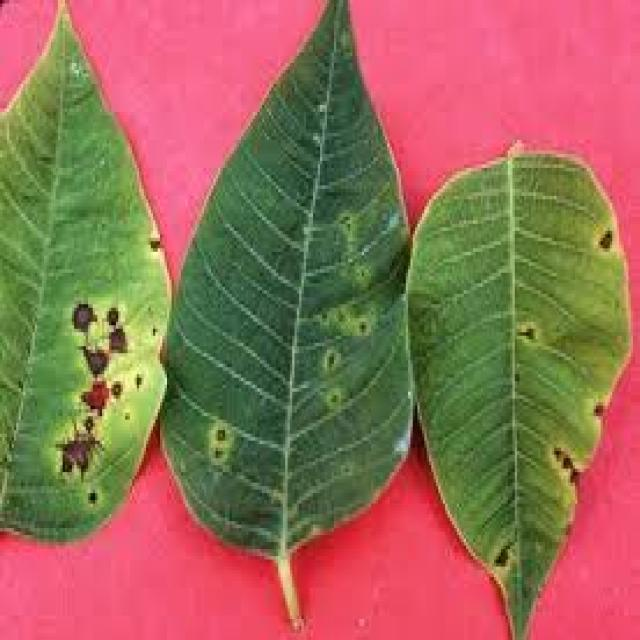Panama: (16, 227, 146, 502), (311, 191, 374, 414), (125, 206, 185, 356), (533, 415, 603, 543), (474, 518, 530, 612), (508, 286, 549, 400), (588, 184, 631, 292), (207, 393, 244, 506), (577, 376, 608, 450)
